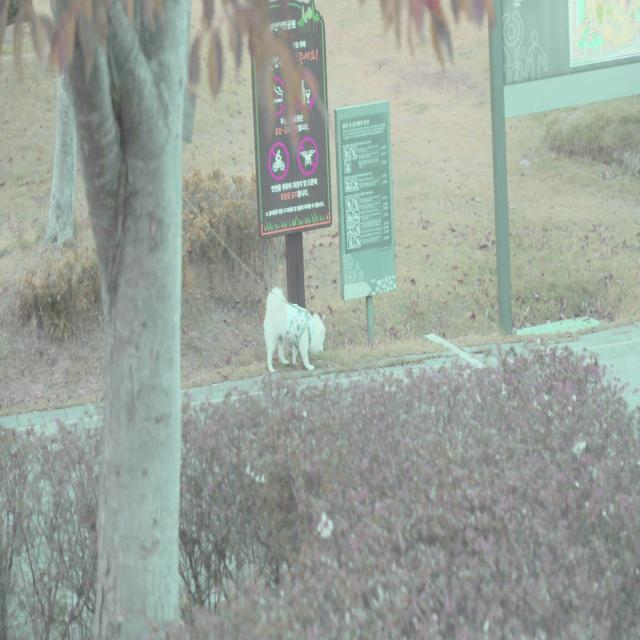Dog: (263, 285, 326, 373)
